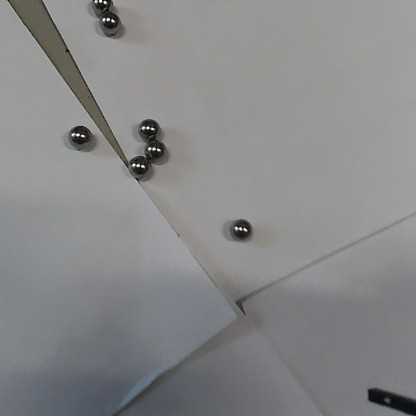ironball: (68, 123, 90, 147), (138, 116, 157, 137), (230, 219, 249, 239), (98, 14, 116, 35), (128, 156, 148, 173), (145, 141, 164, 158), (89, 0, 118, 9)
